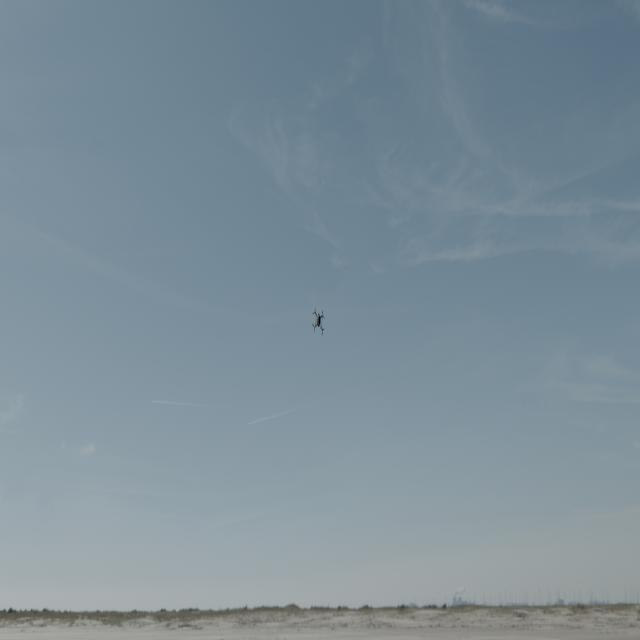drone: (310, 304, 327, 339)
